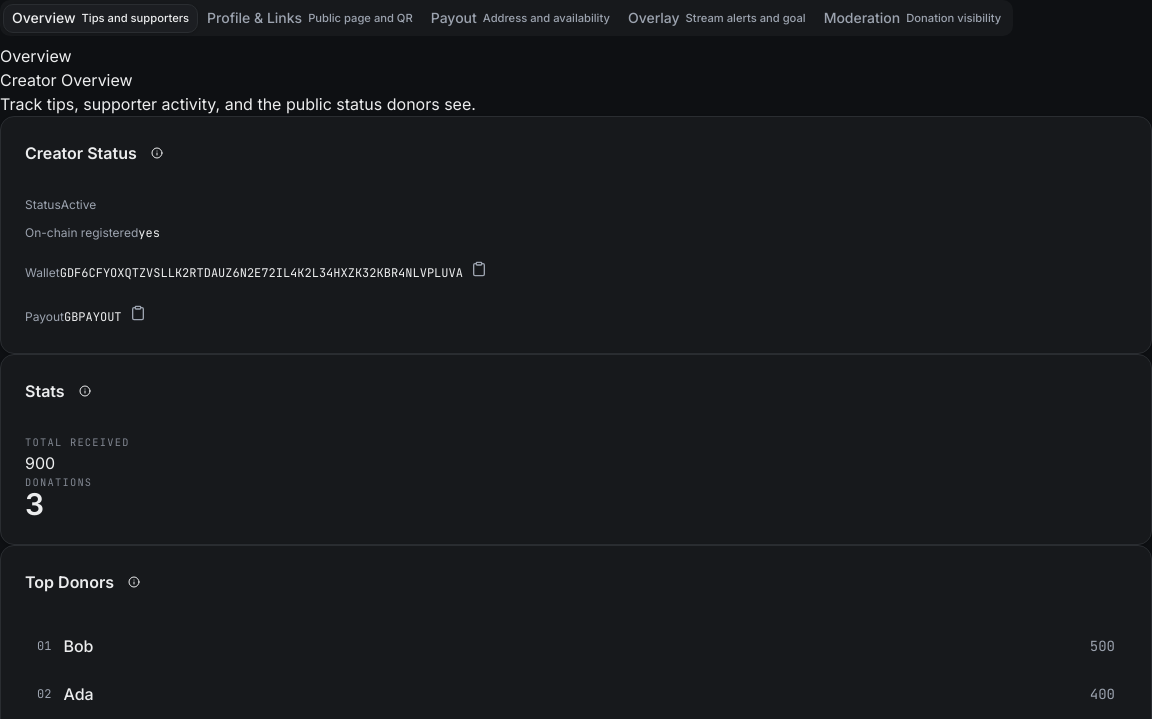
Test: ActiveGate - profile & links › renders the overlay URL with the overlay_id
The image size is (1152, 719).
Click the tab "Overlay Stream alerts and goal".
click(717, 18)  # box [619,4,815,32]
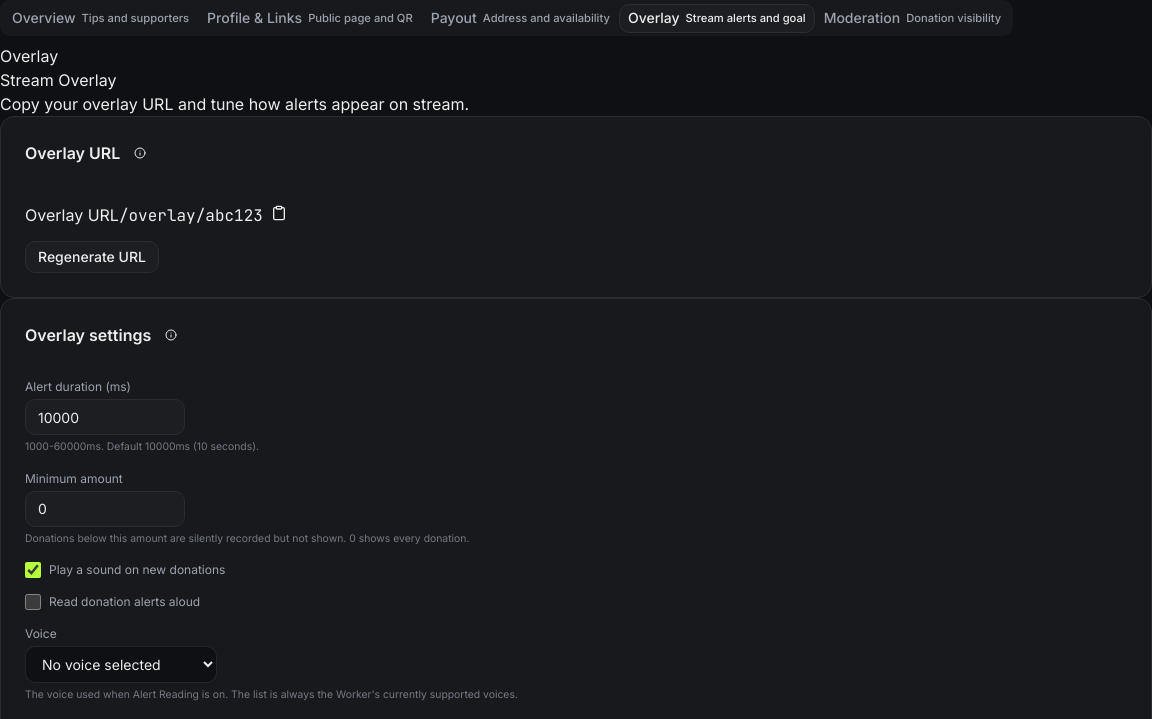
expect the element with test id "overlay-url" shows "/overlay/abc123": met, box [119,205,263,226]
expect the button with test id "overlay-copy" is shown: met, box [263,197,295,229]
